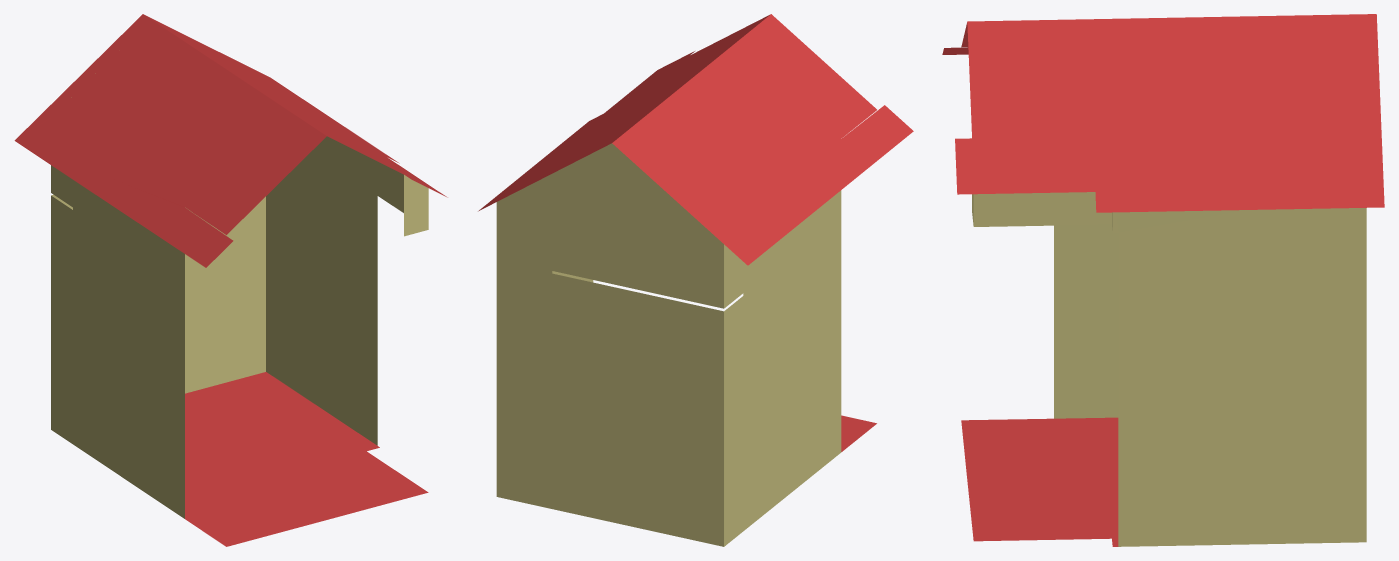
The picture shows the model from 3 angles, left to right: view 1: azimuth 30°, elevation 25°; view 2: azimuth 150°, elevation 25°; view 3: azimuth 270°, elevation 25°; orthographic projection. The views are drawn at different scales.
Bounding box in the file's own units: 10.92 × 12.87 × 14.74.
